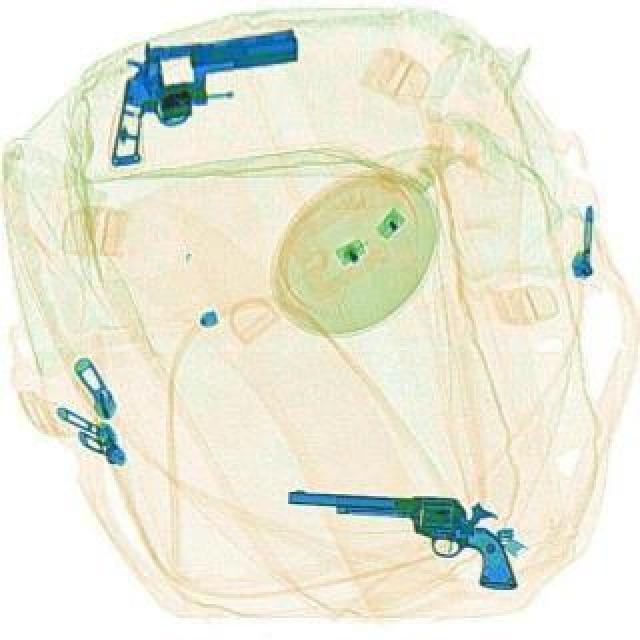gun: (100, 30, 316, 164), (286, 486, 526, 590)
